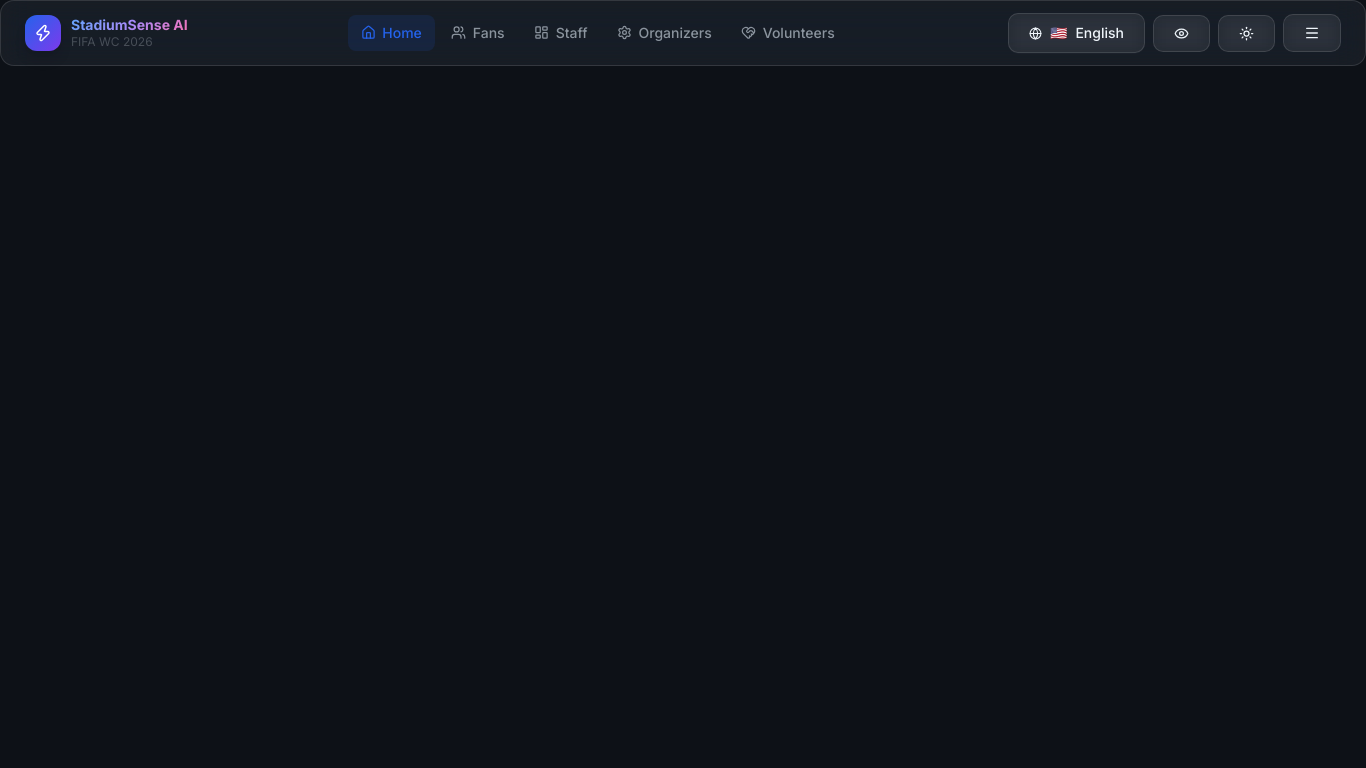
Test case: LayoutHeader Component › should toggle accessibility menu when clicked
Click the button named "open accessibility settings" at (1182, 33), box [1153, 14, 1210, 52]
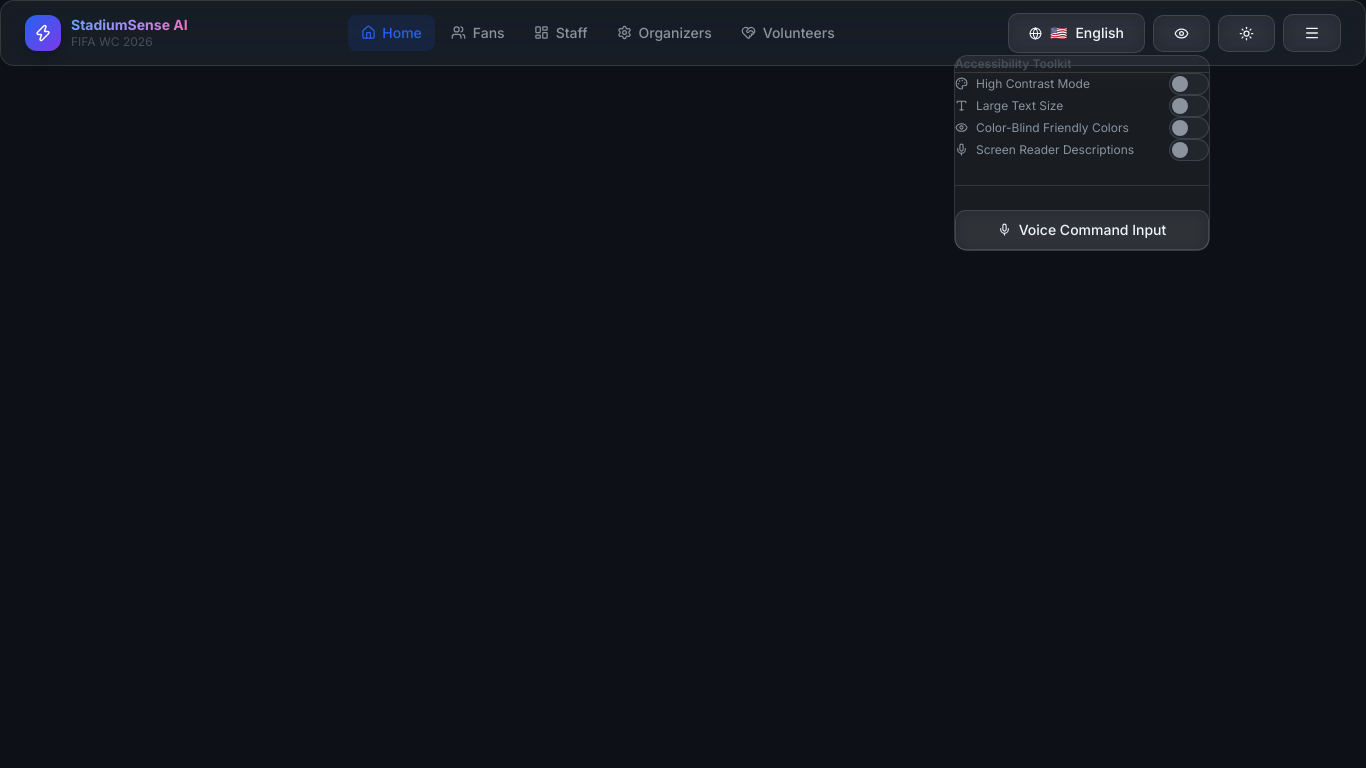
Now the text "High Contrast Mode" is shown, box [955, 76, 1090, 92]
Now the text "Large Text Size" is shown, box [955, 98, 1063, 114]
Now the text "Color-Blind Friendly Colors" is shown, box [955, 120, 1129, 136]
